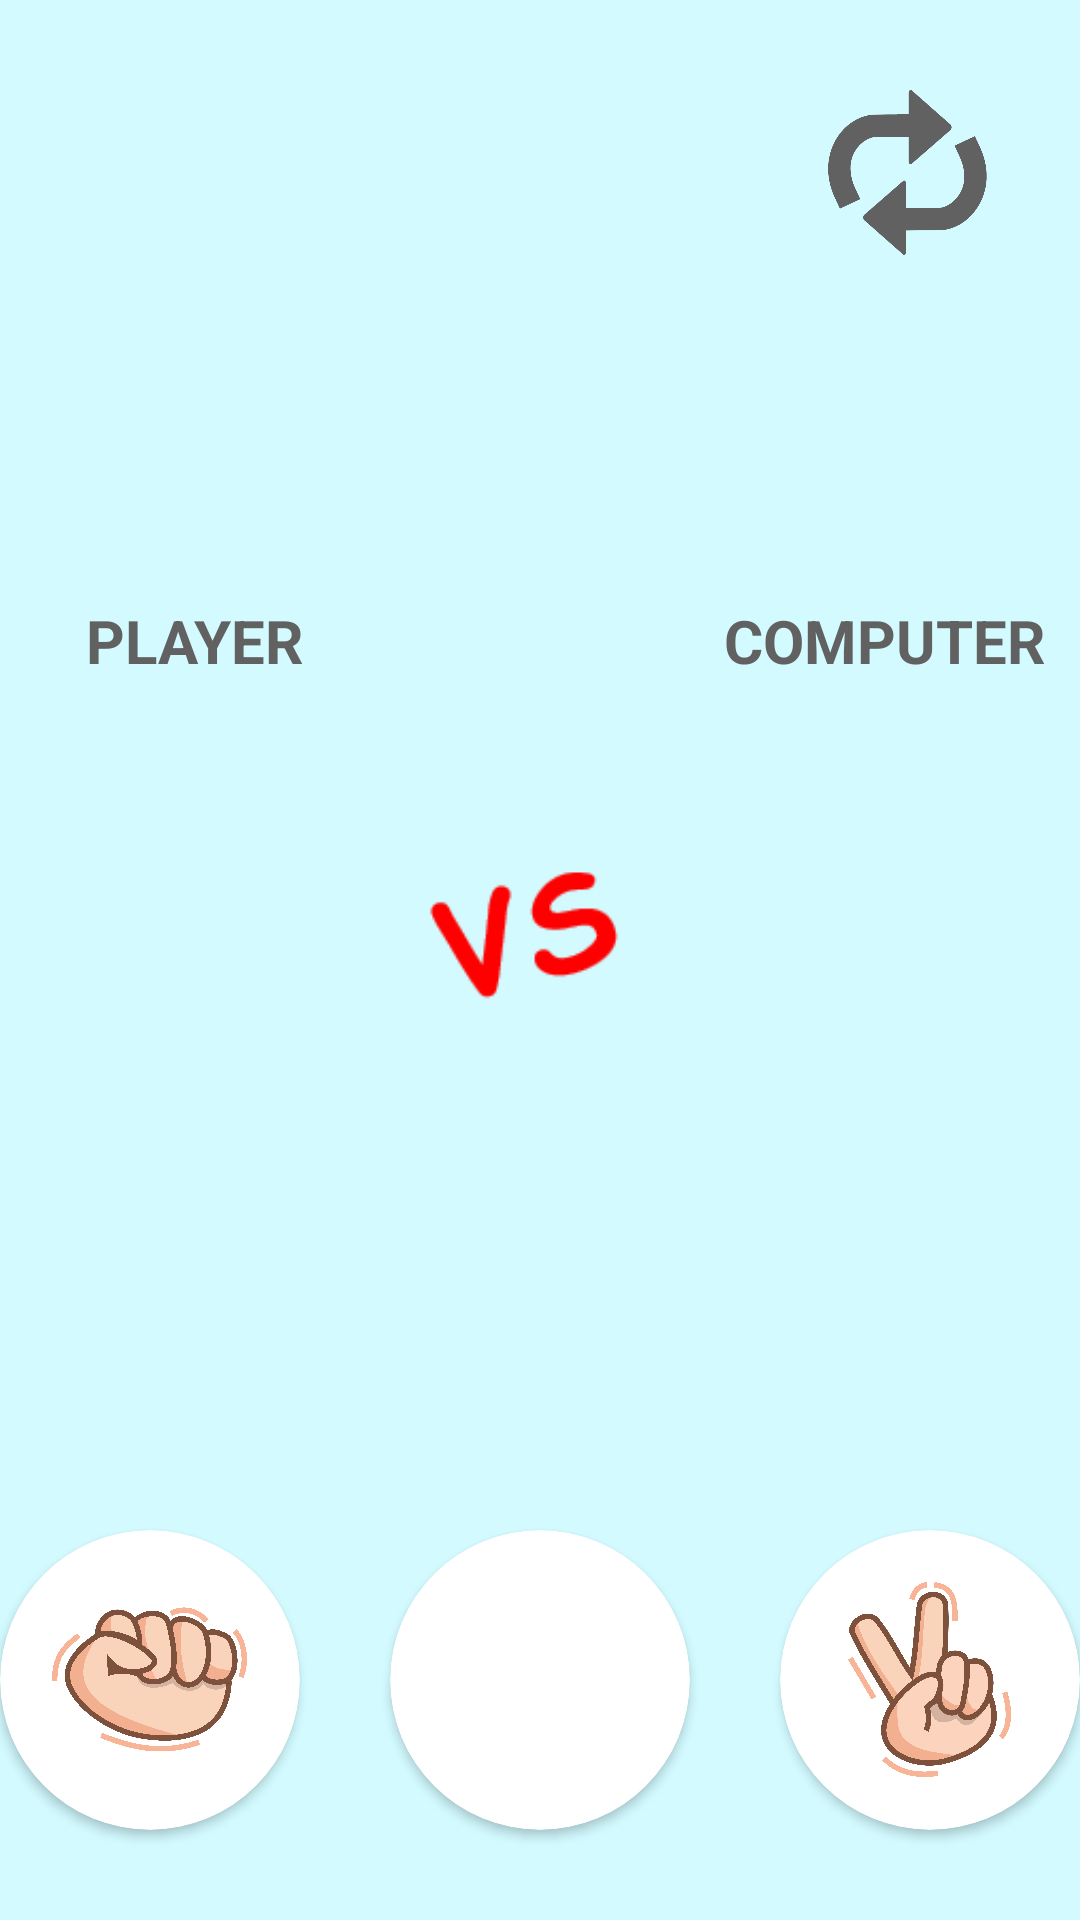

Icons on this 1080 x 1920 Android screen, each with its box as (x1, y1, x2, y2):
refresh: (828, 90, 987, 255)
rock selection: (52, 1607, 247, 1751)
scissor selection: (848, 1582, 1011, 1777)
